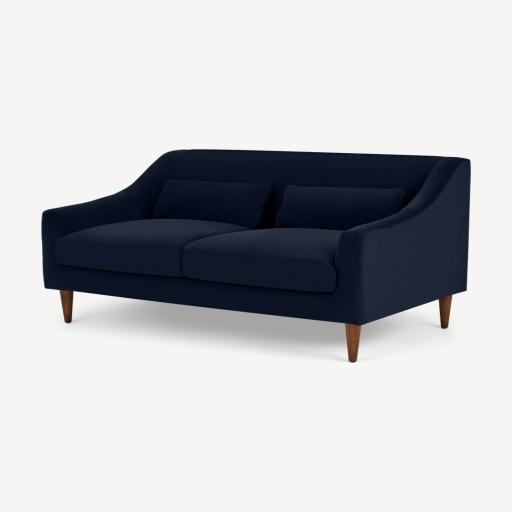back_cushion: (137, 150, 449, 230)
base: (59, 266, 341, 322)
left_arm: (322, 158, 470, 324)
legs: (345, 323, 361, 362), (60, 290, 73, 323), (440, 295, 452, 328)
right_arm: (42, 193, 145, 288)
seat_cushion: (54, 219, 341, 292)
two-seater: (0, 0, 511, 512)
